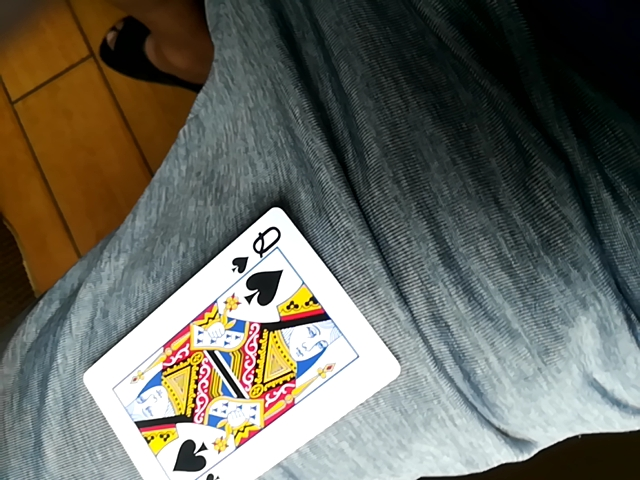ht q: (88, 205, 401, 478)
